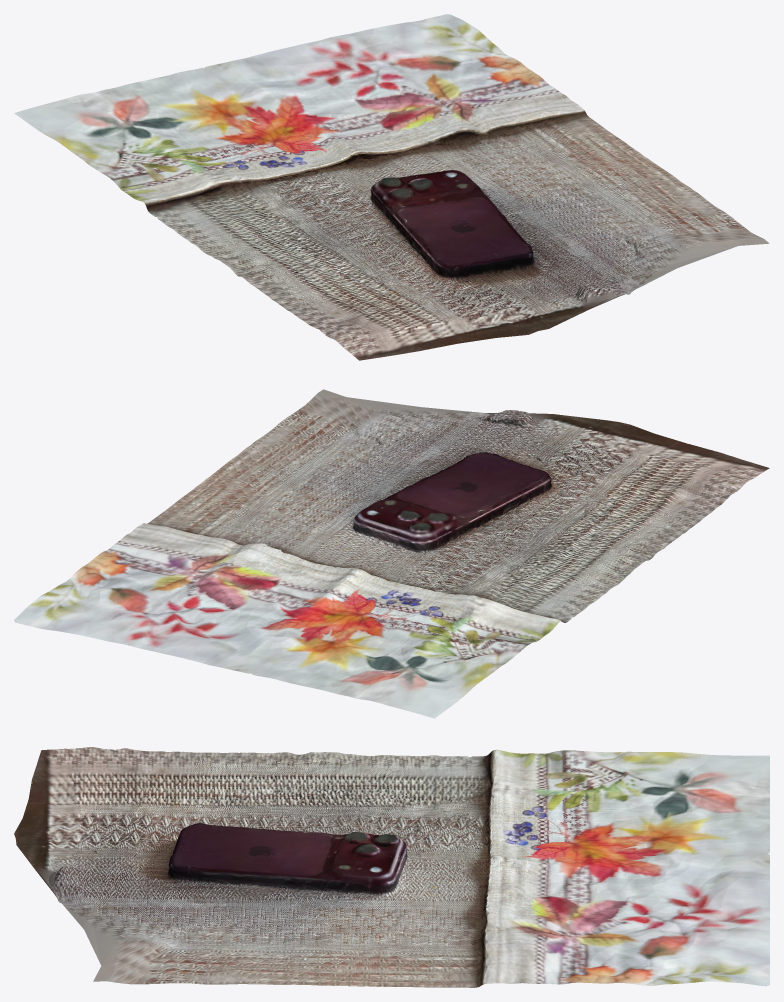
The model's file is iphone table scan.glb.
3 renders of one model, top to bottom at view 1: azimuth 30°, elevation 25°; view 2: azimuth 150°, elevation 25°; view 3: azimuth 270°, elevation 25°, orthographic. The views are drawn at different scales.
Size of the model in its own units: 1.94 by 0.1113 by 2.77.
1 material, 1 textured.
